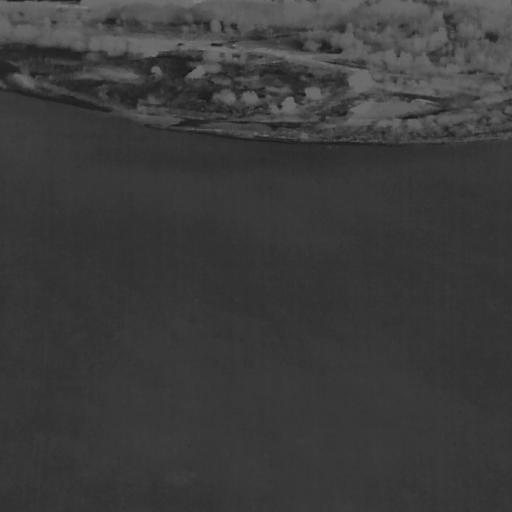uav: (194, 296, 202, 304)
